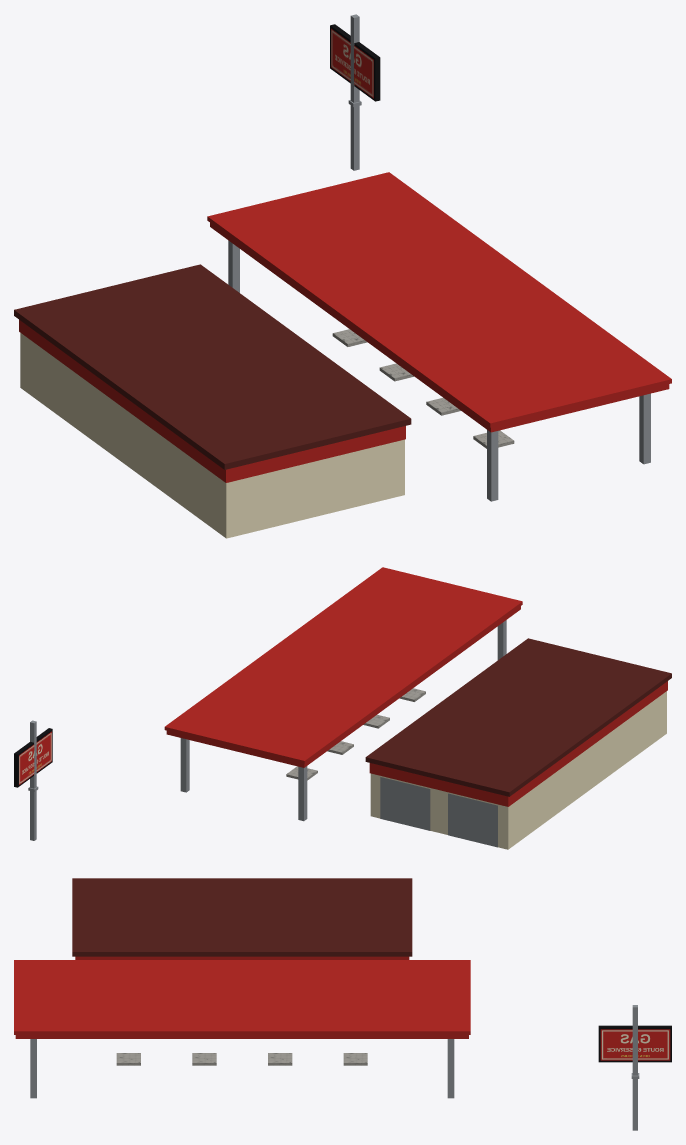
Rendered from station.obj.
3 renders of one model, top to bottom at view 1: azimuth 30°, elevation 25°; view 2: azimuth 150°, elevation 25°; view 3: azimuth 270°, elevation 25°, orthographic. The views are drawn at different scales.
Parts seen in each view (by area): view 1: station; view 2: station; view 3: station.
Part boxes in pixels (left/top/right/bottom): station: left=14, top=14, right=671, bottom=538; station: left=14, top=567, right=671, bottom=849; station: left=14, top=878, right=671, bottom=1130.
Bounding box in the file's own units: 29.8 × 9 × 43.52.
9 materials, 2 textured.
